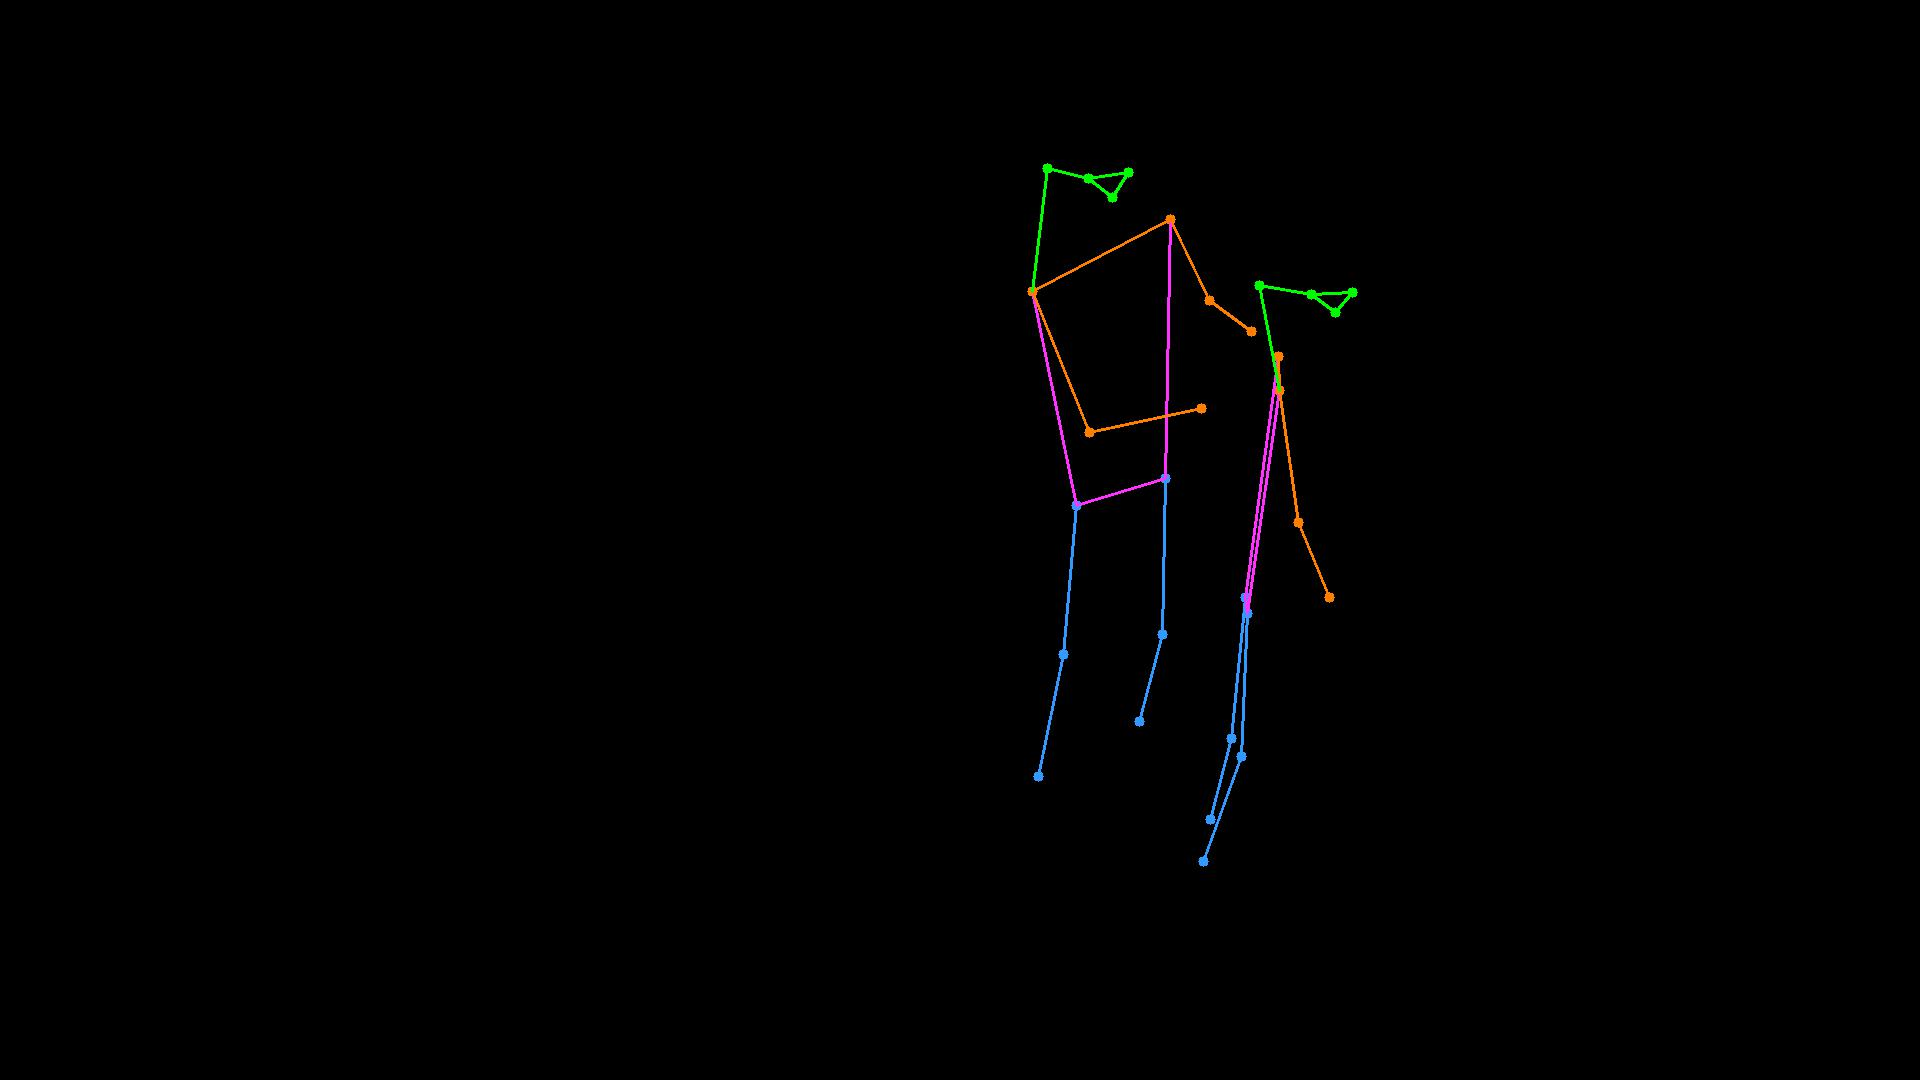normal: (985, 115, 1393, 928)
